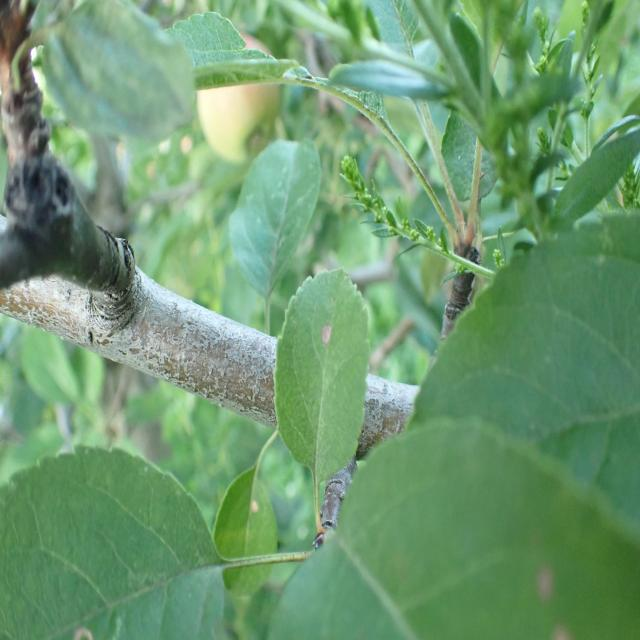Black Rot: (305, 314, 342, 381)
